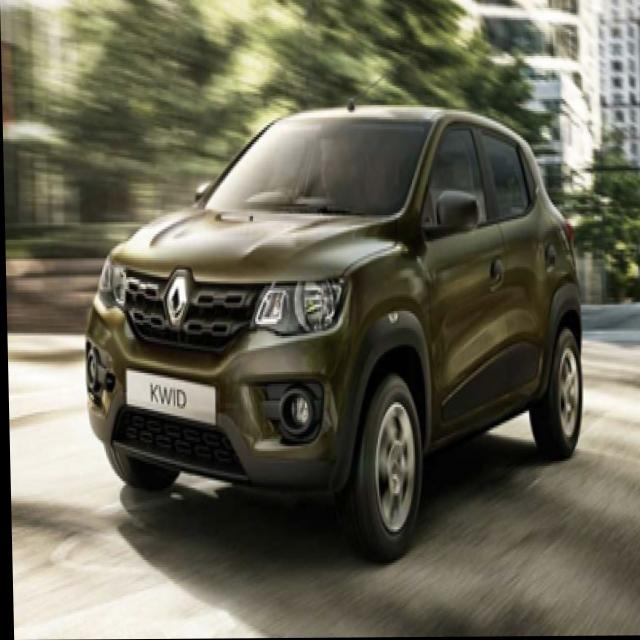licence: (128, 356, 204, 416)
